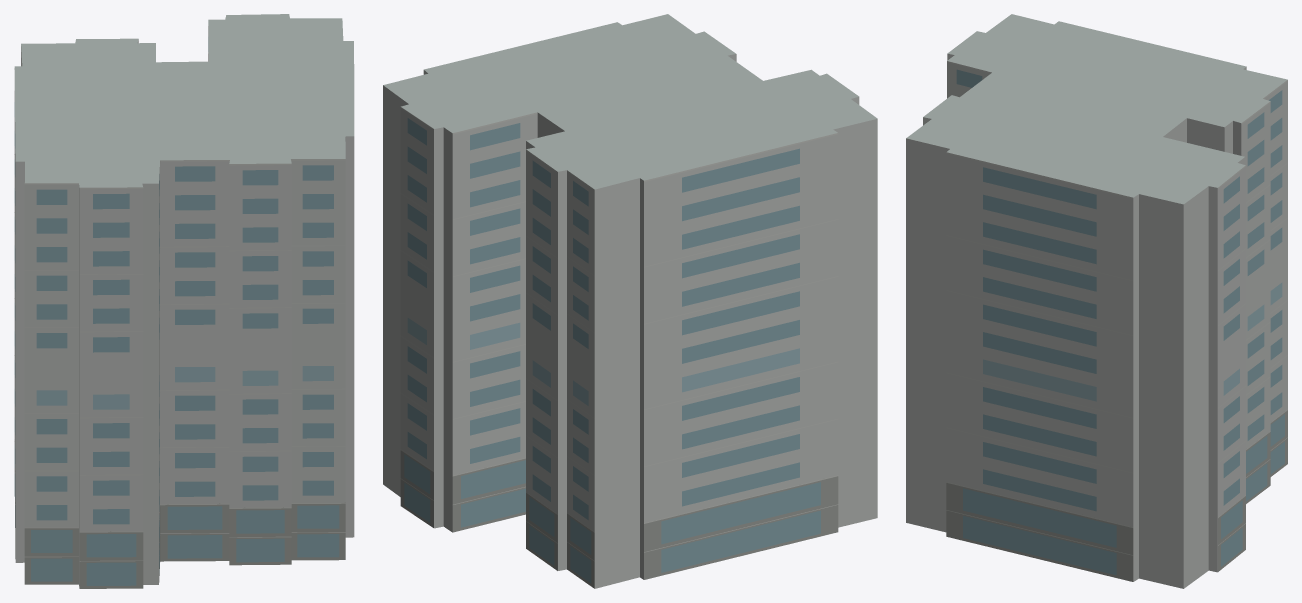
File: survey-upis-32968305.glb
3 renders of one model, left to right at view 1: azimuth 30°, elevation 25°; view 2: azimuth 150°, elevation 25°; view 3: azimuth 270°, elevation 25°, orthographic. The views are drawn at different scales.
Visible parts, largest first — view 1: survey-upis-32968305.tmp; view 2: survey-upis-32968305.tmp; view 3: survey-upis-32968305.tmp.
Boxes of the visible parts, x1=… form: survey-upis-32968305.tmp: x1=14, y1=14, x2=354, y2=588; survey-upis-32968305.tmp: x1=383, y1=14, x2=877, y2=588; survey-upis-32968305.tmp: x1=906, y1=14, x2=1287, y2=588.
Size of the model in its own units: 69.7 by 65.6 by 59.06.
